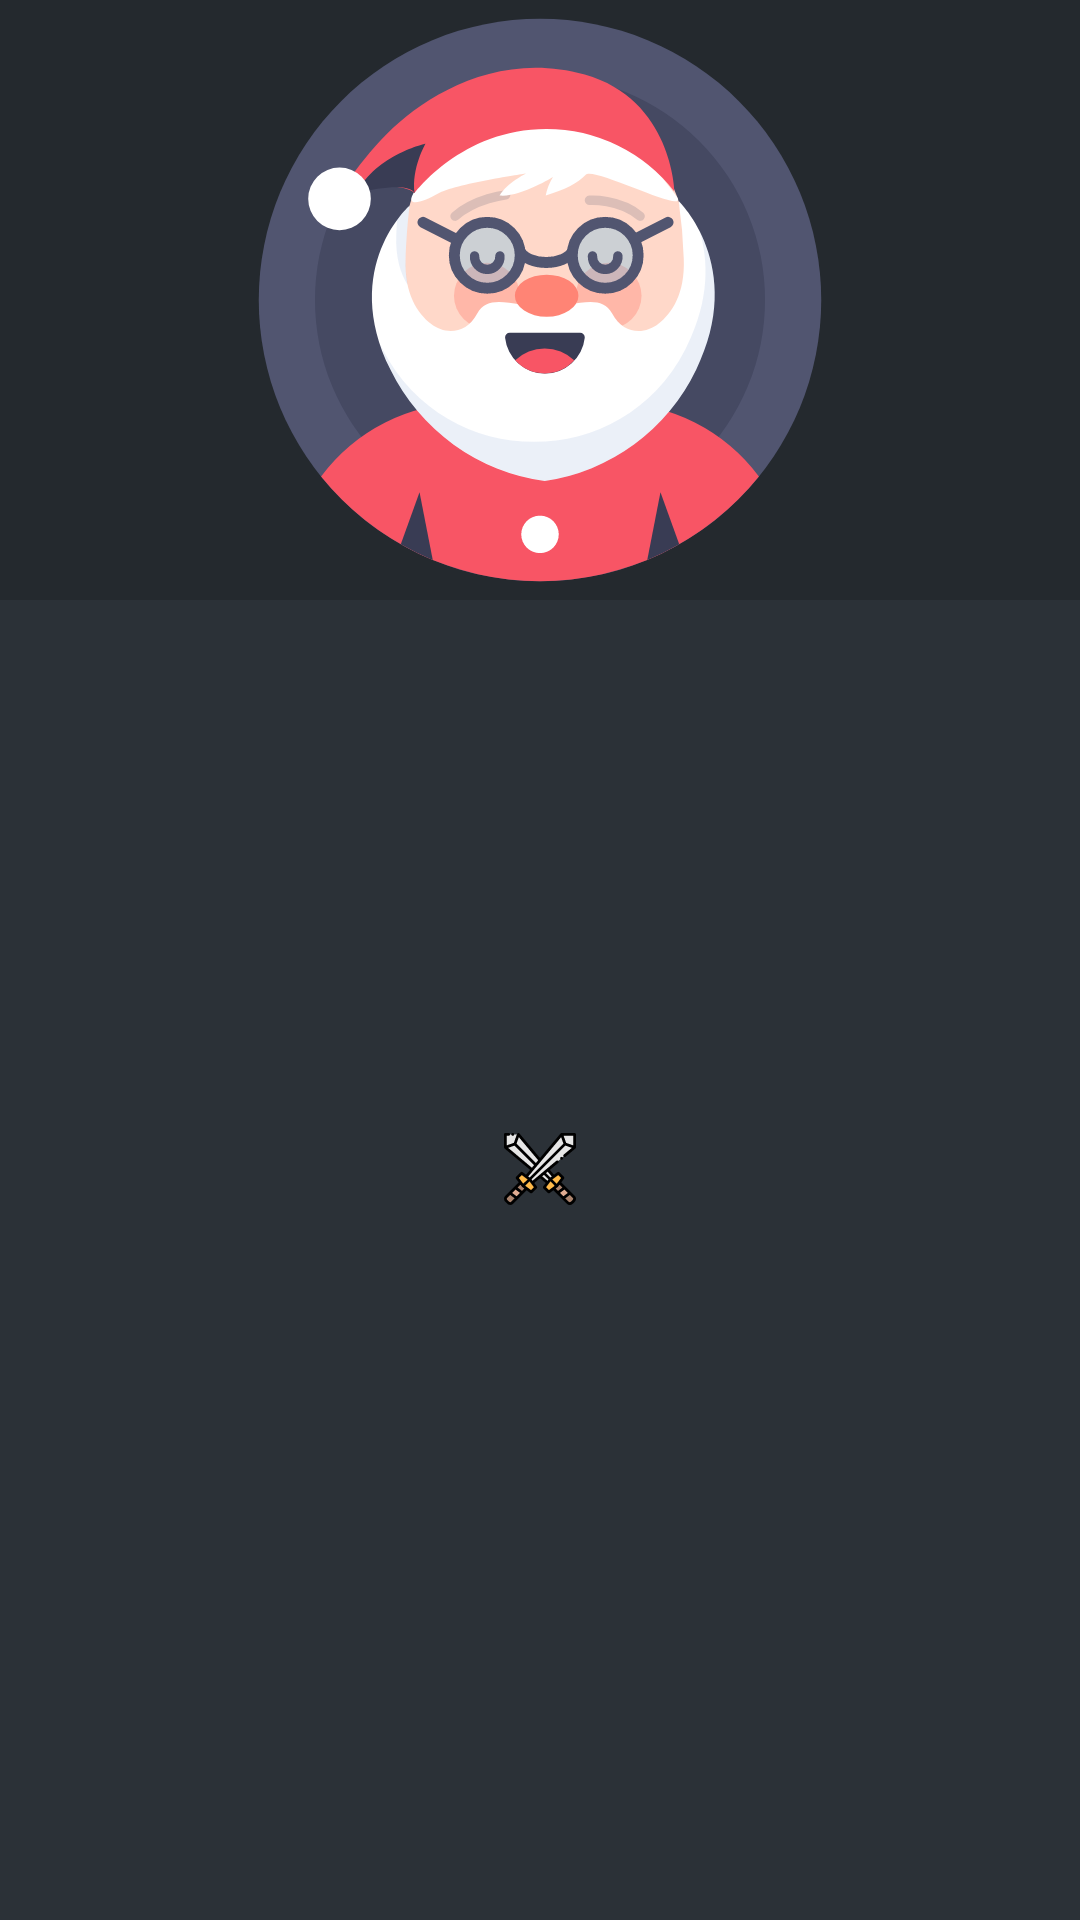

Point at icon controls on the screen. Image size 1080x1920, points as (x=x, y=y).
Challenge Button: (x=540, y=1169)
